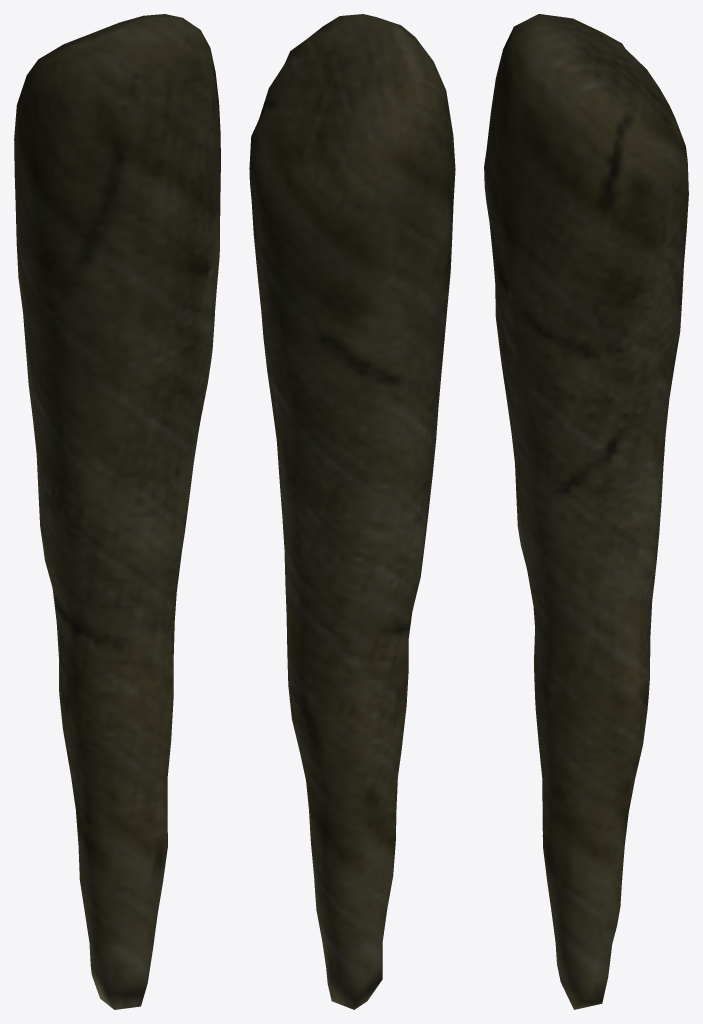
Rendered from cudgel.glb.
3 views of the same model, side by side, from view 1: azimuth 30°, elevation 25°; view 2: azimuth 150°, elevation 25°; view 3: azimuth 270°, elevation 25° (orthographic). The views are drawn at different scales.
Parts seen in each view (by area): view 1: Cudgel; view 2: Cudgel; view 3: Cudgel.
Boxes of the visible parts, box(x1,y1,x2,y2) form: Cudgel: box(14, 14, 220, 1009); Cudgel: box(249, 14, 455, 1009); Cudgel: box(484, 14, 688, 1009).
Size of the model in its own units: 0.1067 by 0.5708 by 0.1078.
1 material, 1 textured.
